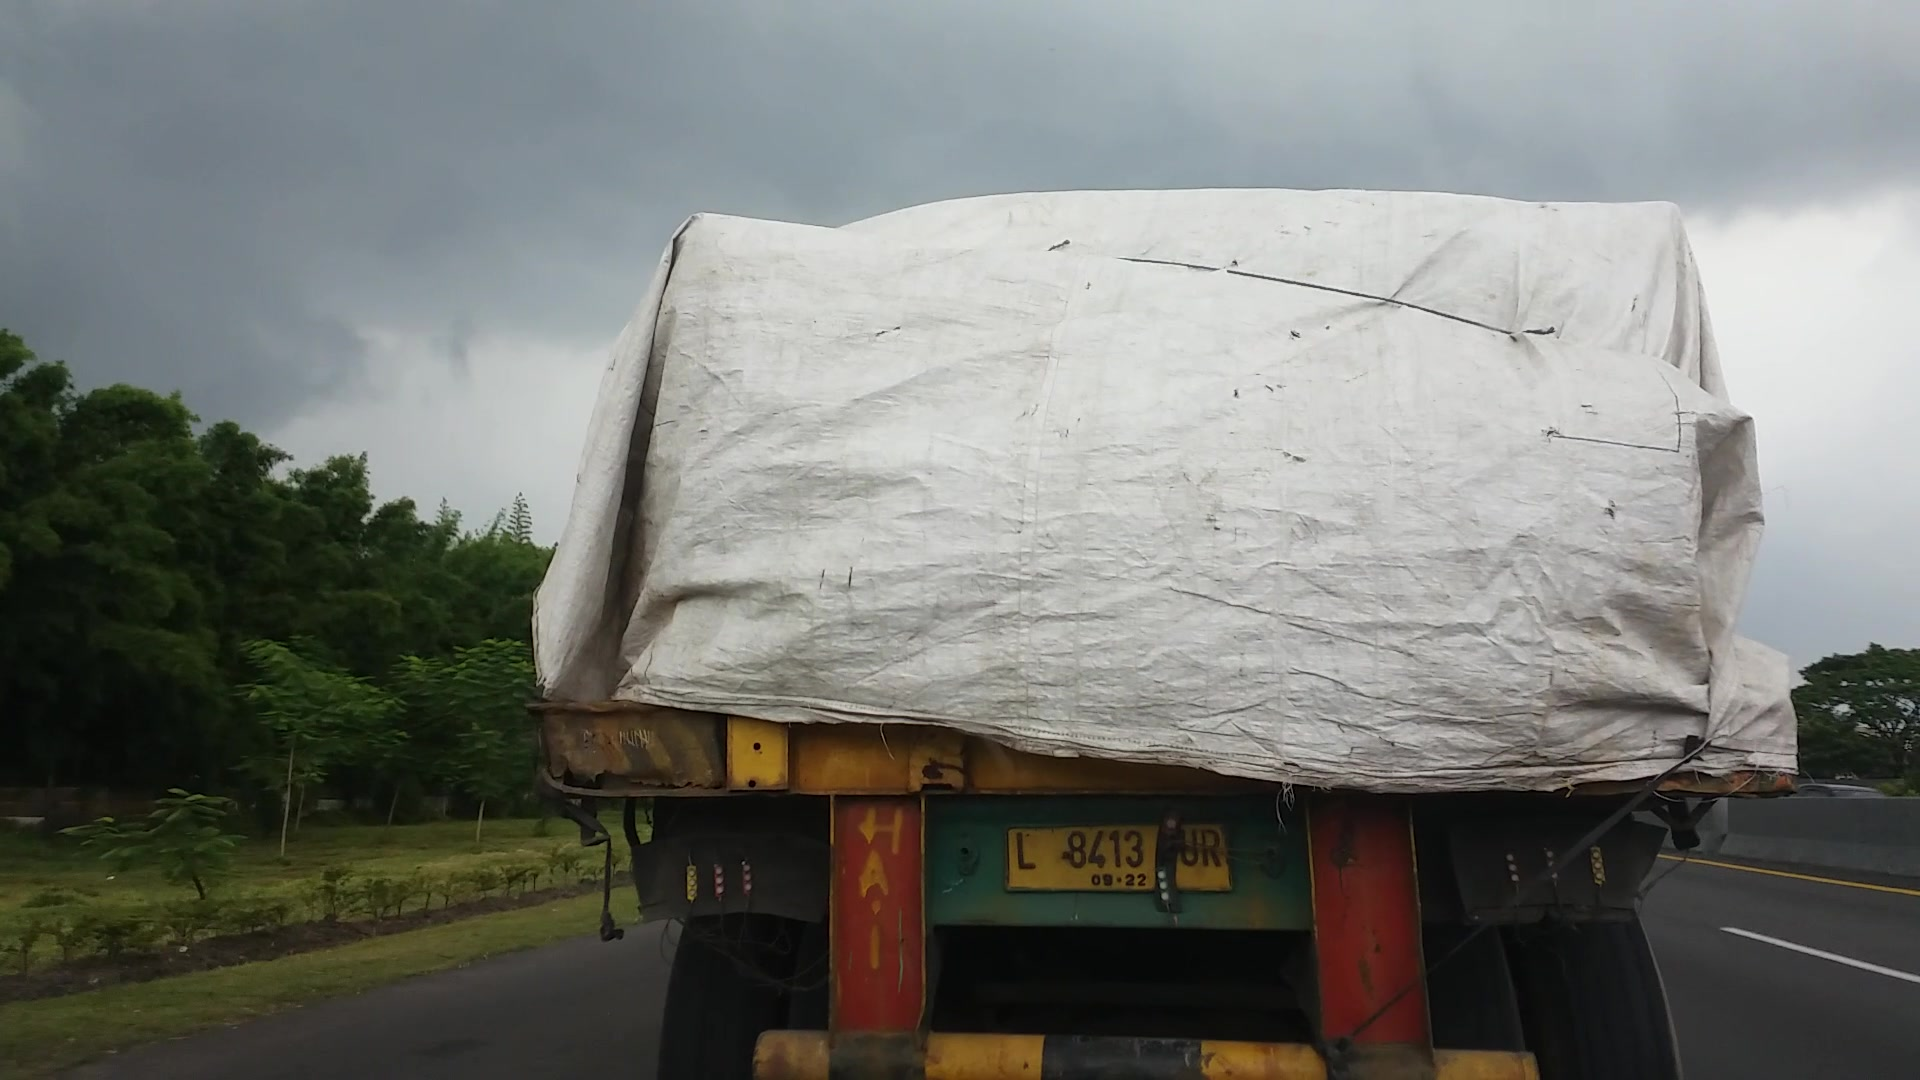plate_positive: (1006, 822, 1229, 889)
